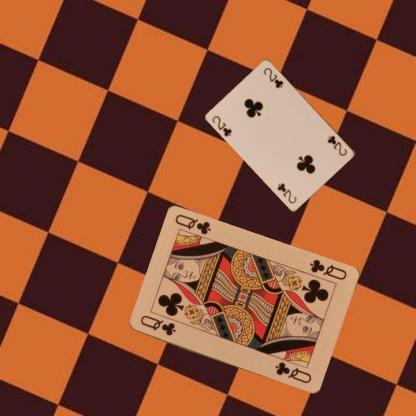2c: (210, 113, 233, 138), (326, 133, 348, 157)
Qc: (306, 257, 348, 282), (137, 312, 177, 338)
